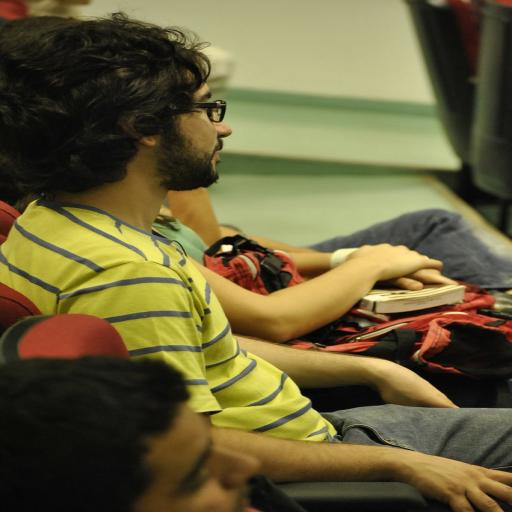Person: (41, 4, 429, 507)
no_gloves: (318, 435, 428, 507), (314, 353, 400, 429), (296, 233, 396, 292), (319, 236, 375, 286)
no_goggle: (170, 85, 255, 129)
no_helmet: (80, 19, 272, 204)
none: (81, 204, 320, 452)
